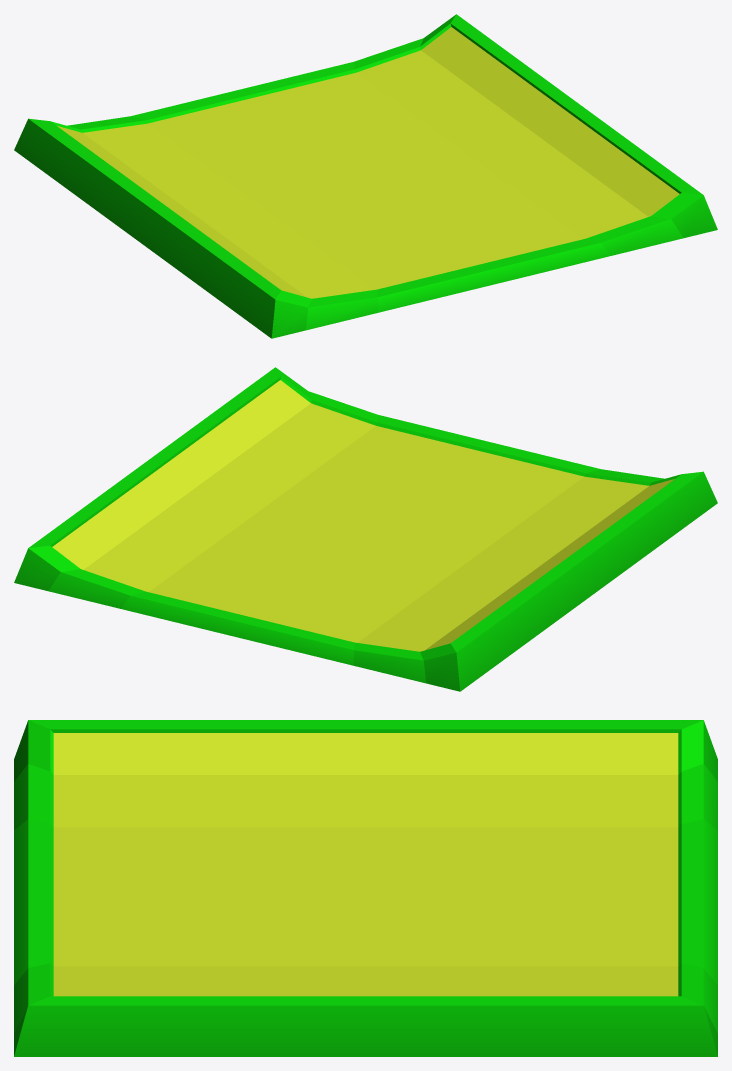
Rendered from sm_speed_platform.fbx.
3 renders of one model, top to bottom at view 1: azimuth 30°, elevation 25°; view 2: azimuth 150°, elevation 25°; view 3: azimuth 270°, elevation 25°, orthographic. The views are drawn at different scales.
Parts seen in each view (by area): view 1: sm_speed_platform; view 2: sm_speed_platform; view 3: sm_speed_platform.
Part boxes in pixels (bbox=[...]): sm_speed_platform: bbox=[14, 14, 717, 338]; sm_speed_platform: bbox=[14, 367, 717, 691]; sm_speed_platform: bbox=[14, 720, 717, 1056].
Size of the model in its own units: 14.79 by 208 by 208.
